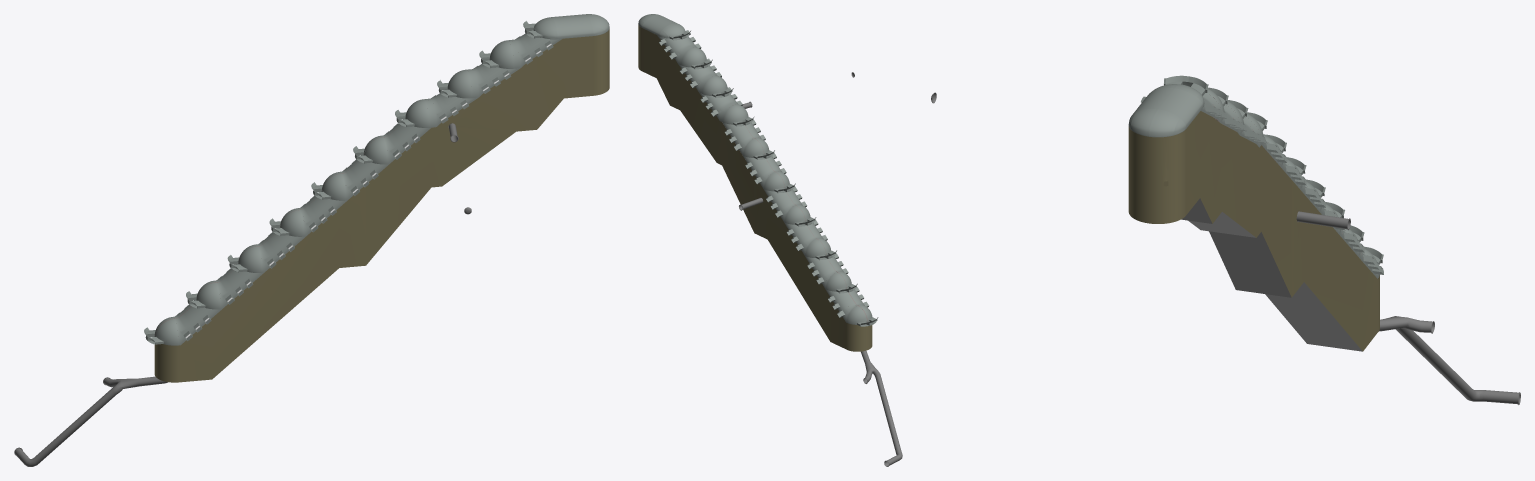
File: Fifth_Gallery.glb
3 renders of one model, left to right at view 1: azimuth 30°, elevation 25°; view 2: azimuth 150°, elevation 25°; view 3: azimuth 270°, elevation 25°, orthographic. The views are drawn at different scales.
Visible parts, largest first — view 1: FifthGalleryWalls_Opt, GalleryRoof-TopEnd; view 2: FifthGalleryWalls_Opt, GalleryRoof-TopEnd; view 3: FifthGalleryWalls_Opt, GalleryRoof-TopEnd.
Boxes of the visible parts, x1,y1,x2,y2 form: FifthGalleryWalls_Opt: (14, 29, 609, 466); GalleryRoof-TopEnd: (144, 14, 609, 345); FifthGalleryWalls_Opt: (638, 24, 902, 466); GalleryRoof-TopEnd: (638, 14, 878, 326); FifthGalleryWalls_Opt: (931, 92, 1520, 404); GalleryRoof-TopEnd: (1128, 75, 1383, 278).
Size of what is drawn, in the model's own units: 638 by 545 by 476.
